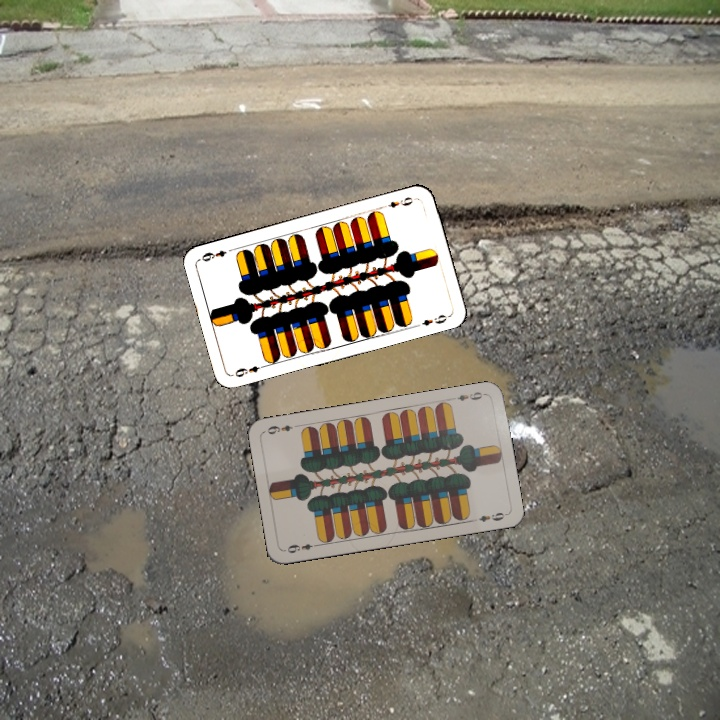E9: (229, 361, 269, 380), (283, 539, 322, 556), (384, 193, 419, 211), (448, 388, 488, 403)
